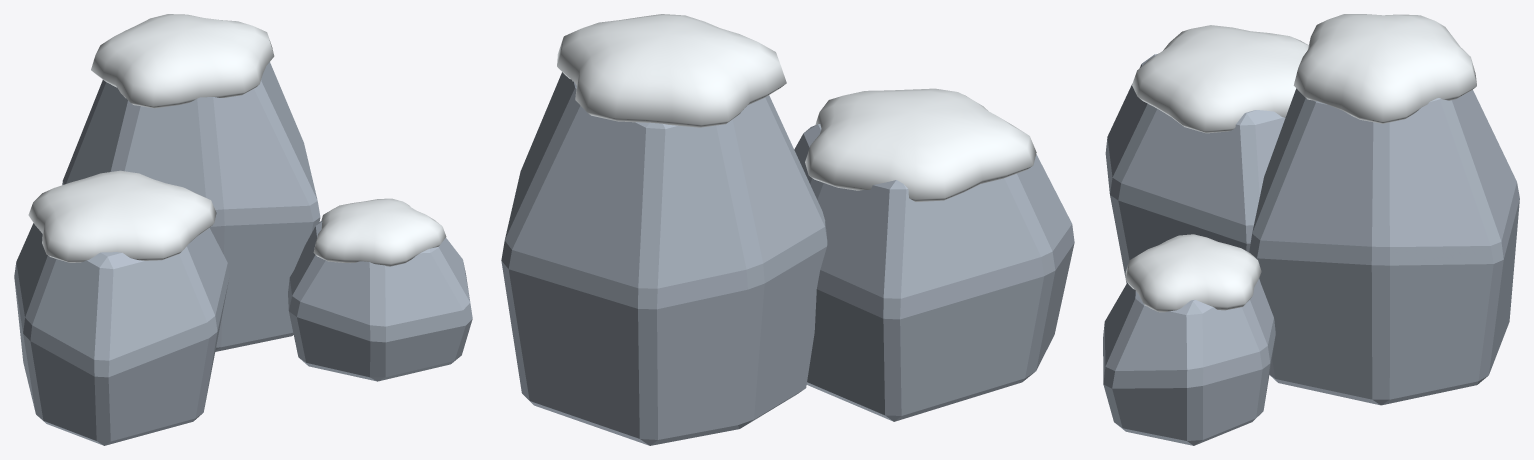
Rendered from Env_RockCluster.glb.
The picture shows the model from 3 angles, left to right: view 1: azimuth 30°, elevation 25°; view 2: azimuth 150°, elevation 25°; view 3: azimuth 270°, elevation 25°; orthographic projection. The views are drawn at different scales.
Parts seen in each view (by area): view 1: Env_RockCluster_Rocks, Env_RockCluster_Snow; view 2: Env_RockCluster_Rocks, Env_RockCluster_Snow; view 3: Env_RockCluster_Rocks, Env_RockCluster_Snow.
Part boxes in pixels (x1,y1,x2,y2): Env_RockCluster_Rocks: [14, 62, 472, 445]; Env_RockCluster_Snow: [28, 14, 446, 266]; Env_RockCluster_Rocks: [501, 72, 1074, 445]; Env_RockCluster_Snow: [557, 14, 1036, 202]; Env_RockCluster_Rocks: [1103, 54, 1519, 445]; Env_RockCluster_Snow: [1125, 14, 1476, 312].
Bounding box in the file's own units: 0.8404 × 0.536 × 0.6385.
